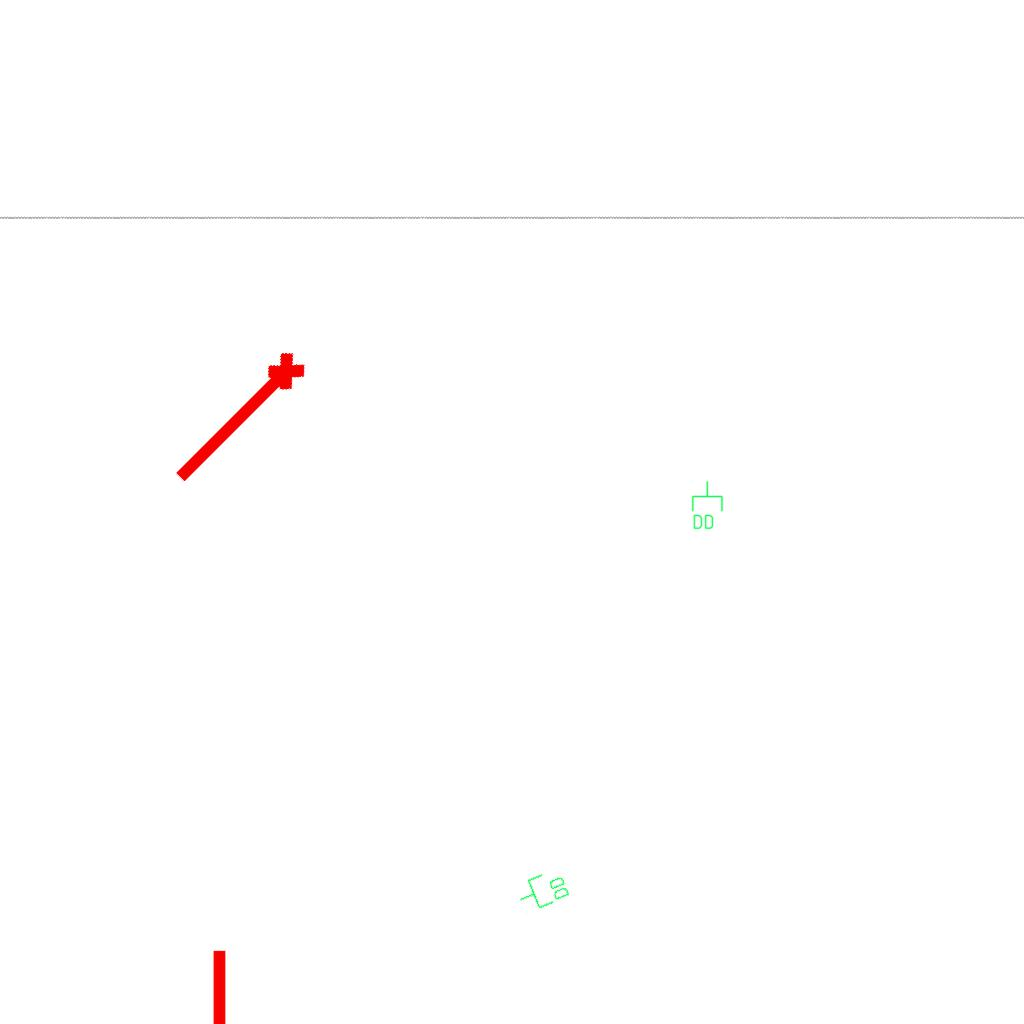ASR_Ansaugoeffnung: (161, 342, 319, 500), (194, 945, 240, 1024)
Datenanschluss_zweifach: (512, 865, 573, 917), (690, 480, 724, 531)
